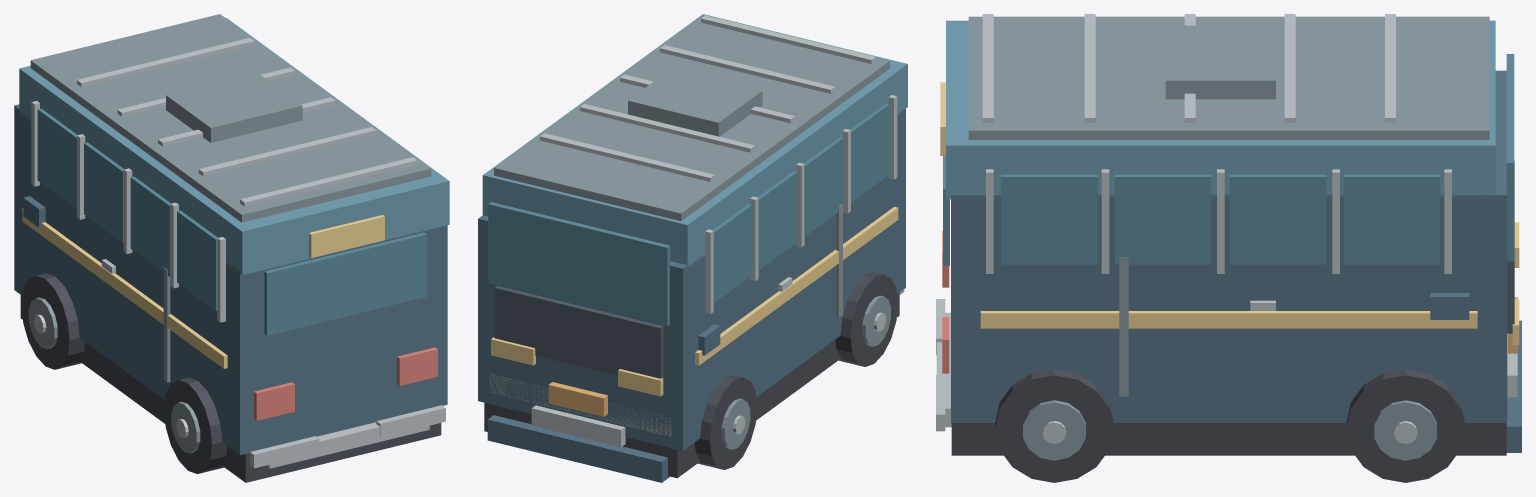
Rendered from prison-transfer-bus.glb.
3 renders of one model, left to right at view 1: azimuth 30°, elevation 25°; view 2: azimuth 150°, elevation 25°; view 3: azimuth 270°, elevation 25°, orthographic. The views are drawn at different scales.
Visible parts, largest first — view 1: An Phu - prisoner transfer minibus; view 2: An Phu - prisoner transfer minibus; view 3: An Phu - prisoner transfer minibus.
Part boxes in pixels (x1,y1,x2,y2): An Phu - prisoner transfer minibus: [14, 14, 449, 482]; An Phu - prisoner transfer minibus: [478, 14, 907, 482]; An Phu - prisoner transfer minibus: [936, 14, 1521, 482].
Size of the model in its own units: 2.03 by 2.35 by 3.45.
